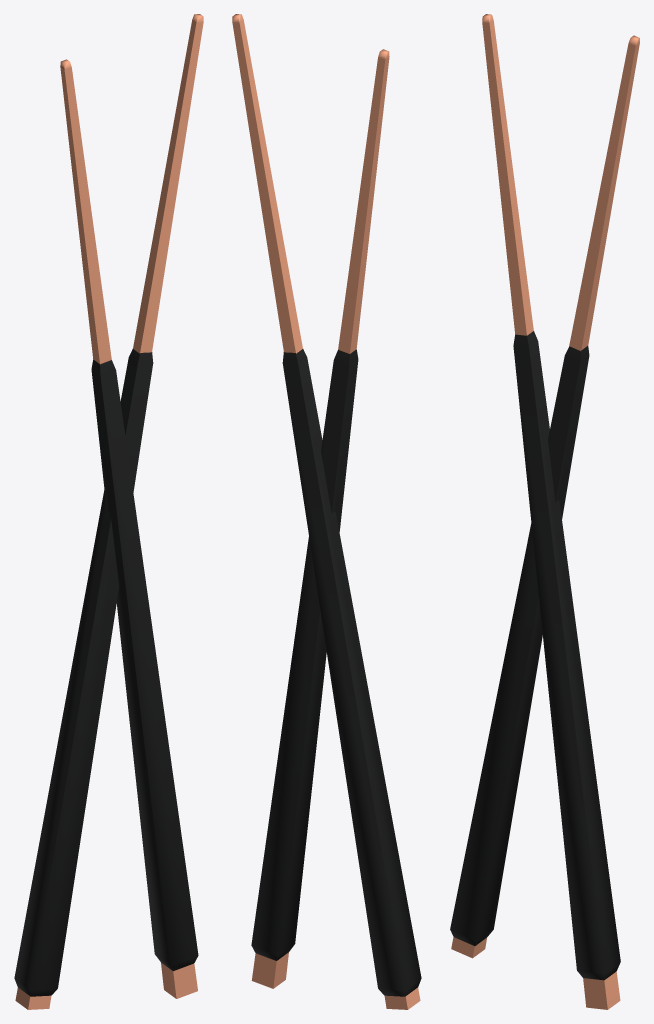
The model's file is chopsticks_crossed_007.glb.
3 renders of one model, left to right at view 1: azimuth 30°, elevation 25°; view 2: azimuth 150°, elevation 25°; view 3: azimuth 330°, elevation 25°, orthographic.
Parts seen in each view (by area): view 1: chopsticks crossed.007; view 2: chopsticks crossed.007; view 3: chopsticks crossed.007.
Boxes of the visible parts, <box> form: chopsticks crossed.007: <box>14,14,203,1009</box>; chopsticks crossed.007: <box>232,14,421,1009</box>; chopsticks crossed.007: <box>450,14,639,1009</box>.
Size of the model in its own units: 1.08 by 5.54 by 0.2396.
Materials: 1 (1 with a texture image).
